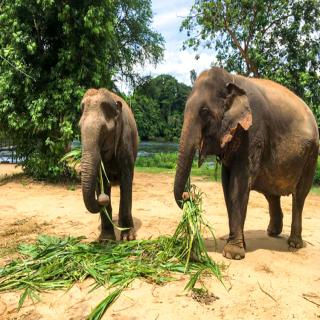Elephant: (171, 60, 320, 274), (72, 81, 152, 259)
